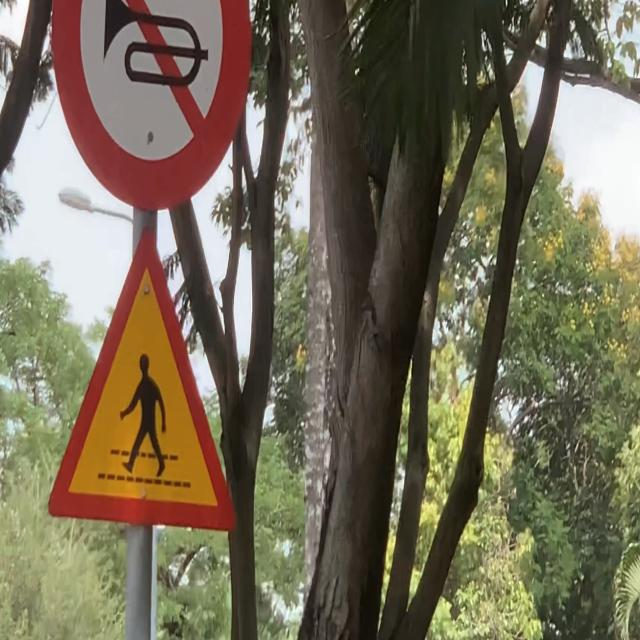Cam con lai: (48, 0, 253, 213)
Nguoi di bo cat ngang: (43, 219, 240, 537)
